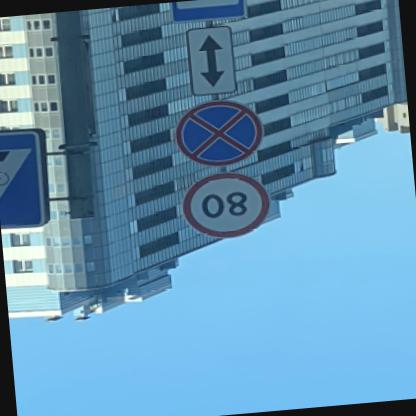crosswalk: (0, 129, 55, 234)
speedlimit: (182, 170, 276, 244)
